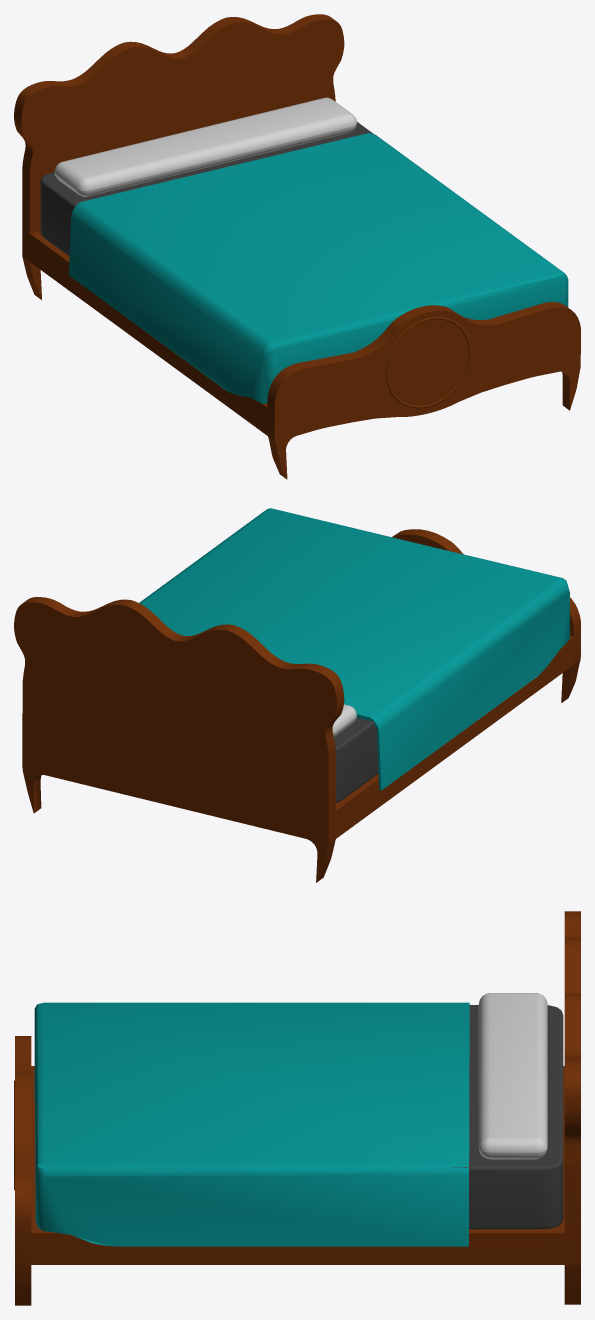
The model's file is Cama.FBX.
3 views of the same model, one above another, from view 1: azimuth 30°, elevation 25°; view 2: azimuth 150°, elevation 25°; view 3: azimuth 270°, elevation 25° (orthographic). The views are drawn at different scales.
Parts seen in each view (by area): view 1: Sabana, Somier, Almohada, Colchon; view 2: Somier, Sabana, Colchon; view 3: Sabana, Somier, Almohada, Colchon.
Boxes of the visible parts, box(x1,y1,x2,y2) form: Sabana: box(69, 133, 568, 403); Somier: box(14, 14, 580, 479); Almohada: box(54, 97, 356, 196); Colchon: box(40, 122, 375, 256); Somier: box(14, 529, 580, 882); Sabana: box(139, 508, 569, 790); Colchon: box(334, 717, 378, 802); Sabana: box(34, 1002, 469, 1246); Somier: box(14, 911, 580, 1305); Almohada: box(478, 993, 547, 1159); Colchon: box(452, 1005, 563, 1229).
Size of the model in its own units: 146 by 99.29 by 197.
